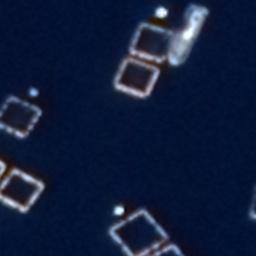square_solid: (104, 205, 172, 256), (111, 55, 161, 102), (1, 165, 46, 217), (127, 22, 175, 66), (1, 93, 43, 143)
